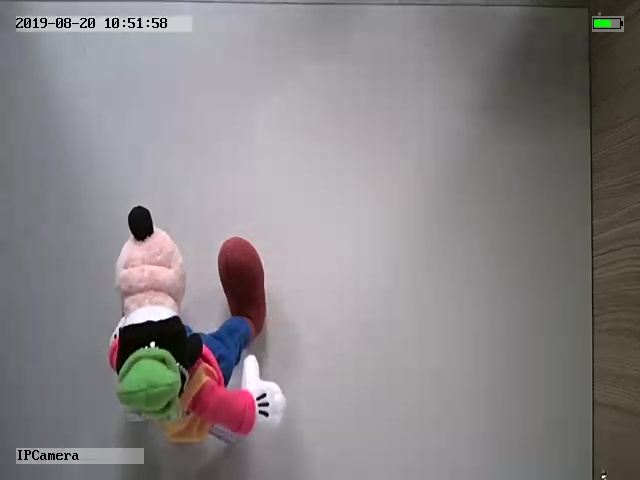goofy: (108, 204, 287, 443)
